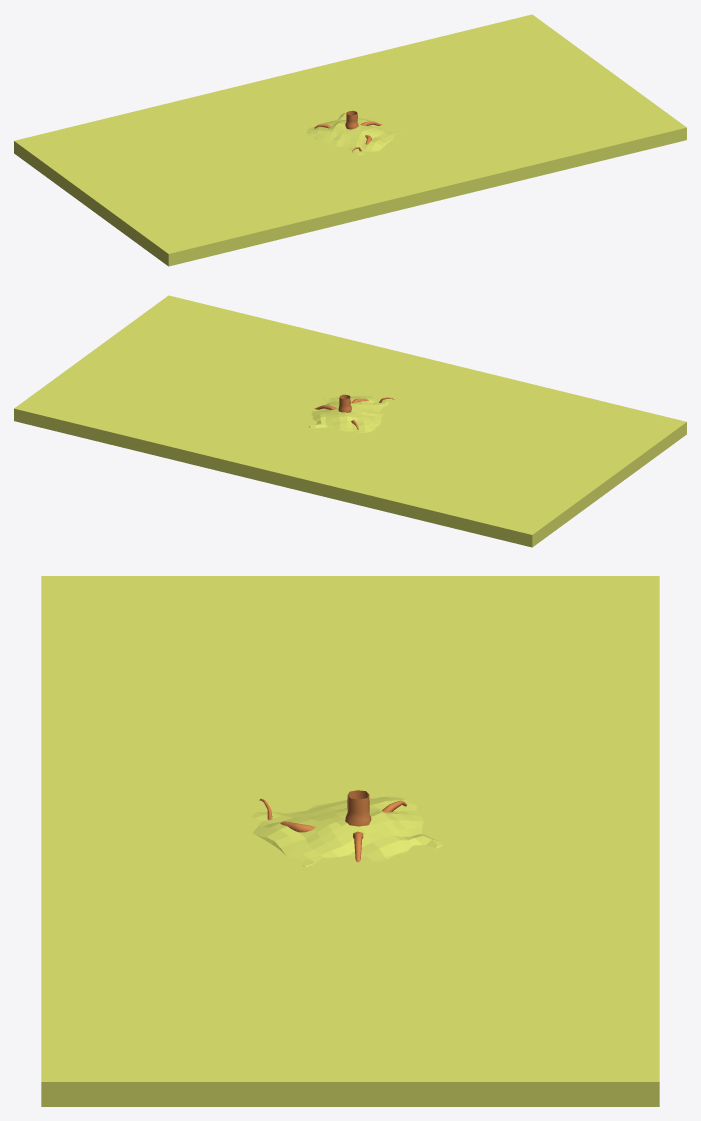
The model's file is tree_bottom.gltf.
The picture shows the model from 3 angles, top to bottom: view 1: azimuth 30°, elevation 25°; view 2: azimuth 150°, elevation 25°; view 3: azimuth 270°, elevation 25°; orthographic projection. The views are drawn at different scales.
Visible parts, largest first — view 1: ground, grass, trunk; view 2: ground, grass, trunk; view 3: ground, grass, trunk.
Boxes of the visible parts, bbox=[...] form: ground: bbox=[14, 14, 686, 266]; grass: bbox=[306, 113, 400, 155]; trunk: bbox=[314, 110, 382, 151]; ground: bbox=[14, 295, 686, 547]; grass: bbox=[309, 396, 390, 432]; trunk: bbox=[314, 394, 394, 429]; ground: bbox=[41, 576, 659, 1106]; grass: bbox=[252, 796, 443, 867]; trunk: bbox=[259, 790, 406, 862].
Size of the model in its own units: 189 by 10.9 by 97.45.
